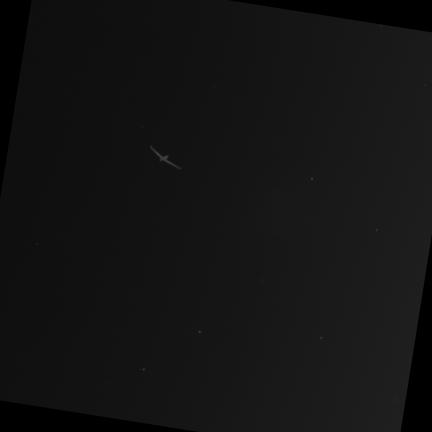Shahed: (150, 143, 182, 169)
